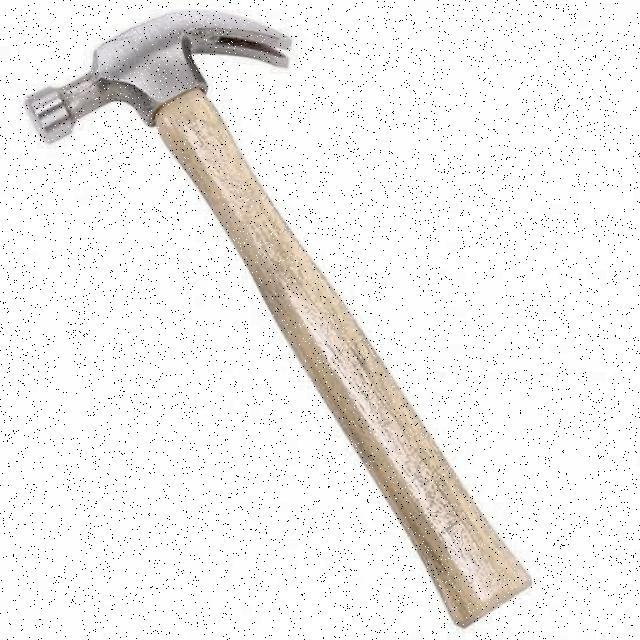hammer: (23, 7, 539, 627)
